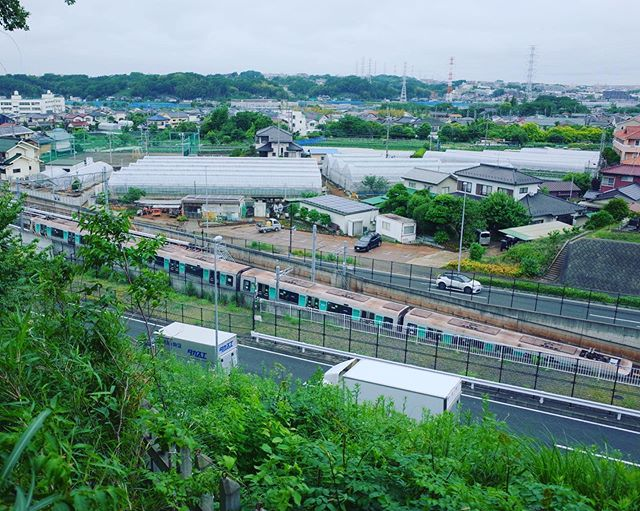building: (103, 146, 326, 215), (401, 161, 577, 247), (326, 143, 592, 197), (1, 110, 95, 186), (603, 111, 640, 189)
car: (436, 267, 488, 299), (353, 228, 383, 260)
sky: (5, 1, 640, 84)
train: (20, 201, 633, 395)
truck: (321, 350, 474, 432), (125, 318, 248, 389)
vegetation: (21, 228, 581, 511)
